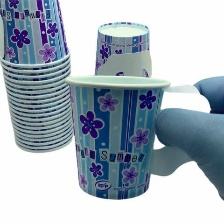paper_cup: (61, 66, 215, 204), (0, 0, 79, 155), (89, 14, 157, 86)
